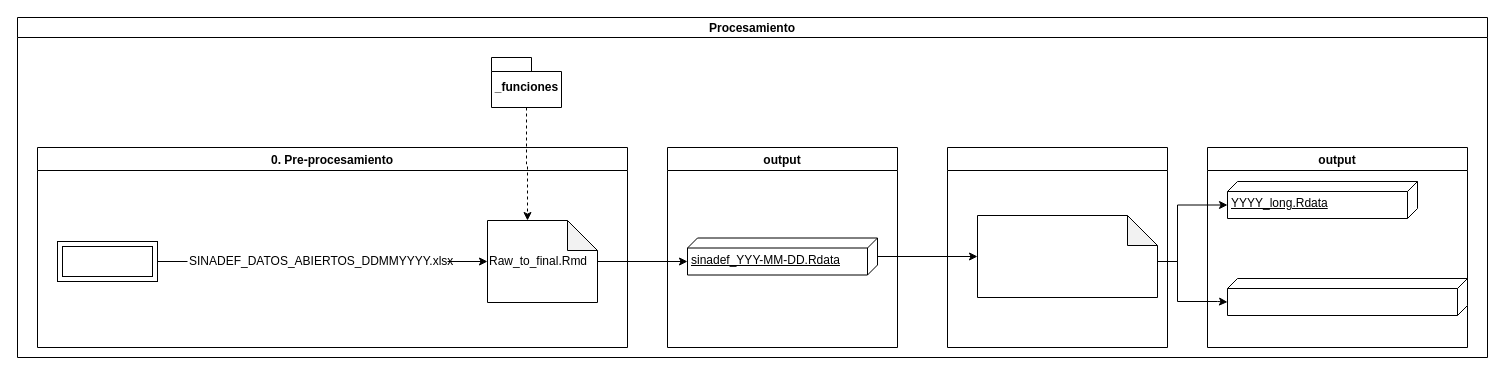
The diagram is 1505 pixels wide and 375 high, and some of its shapes have lost their labels. Each missing label, with the box of its shape:
1. Formato Long completa: (946, 146, 1168, 348)
Datos completos en long.Rmd: (976, 214, 1158, 298)
sinadef_longBy[var]_YYYY-MM-DD.Rdata: (1226, 278, 1468, 316)
Tableau (DATOS MINSA): (56, 240, 158, 282)
